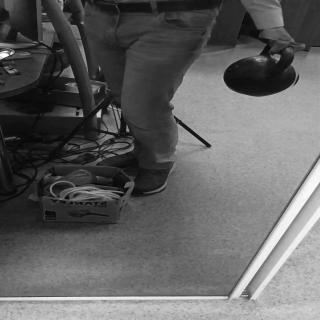kettlebell: (223, 38, 308, 99)
